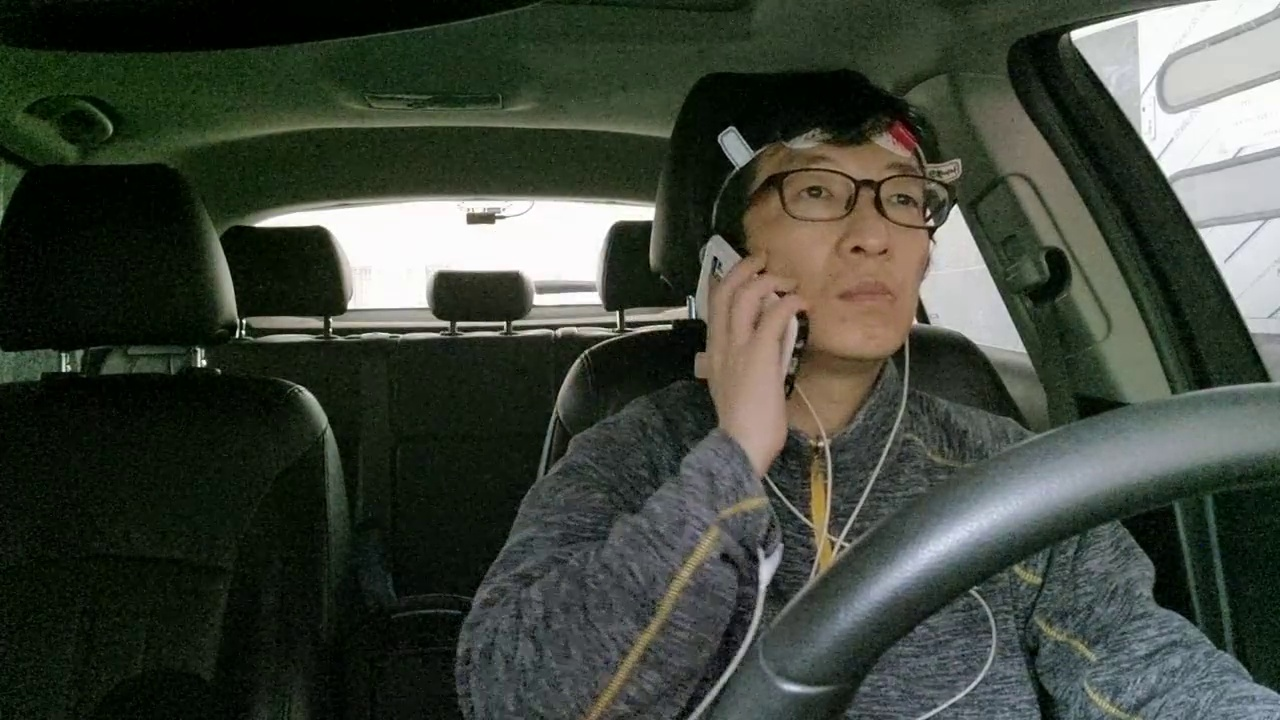phone: (645, 204, 845, 436)
